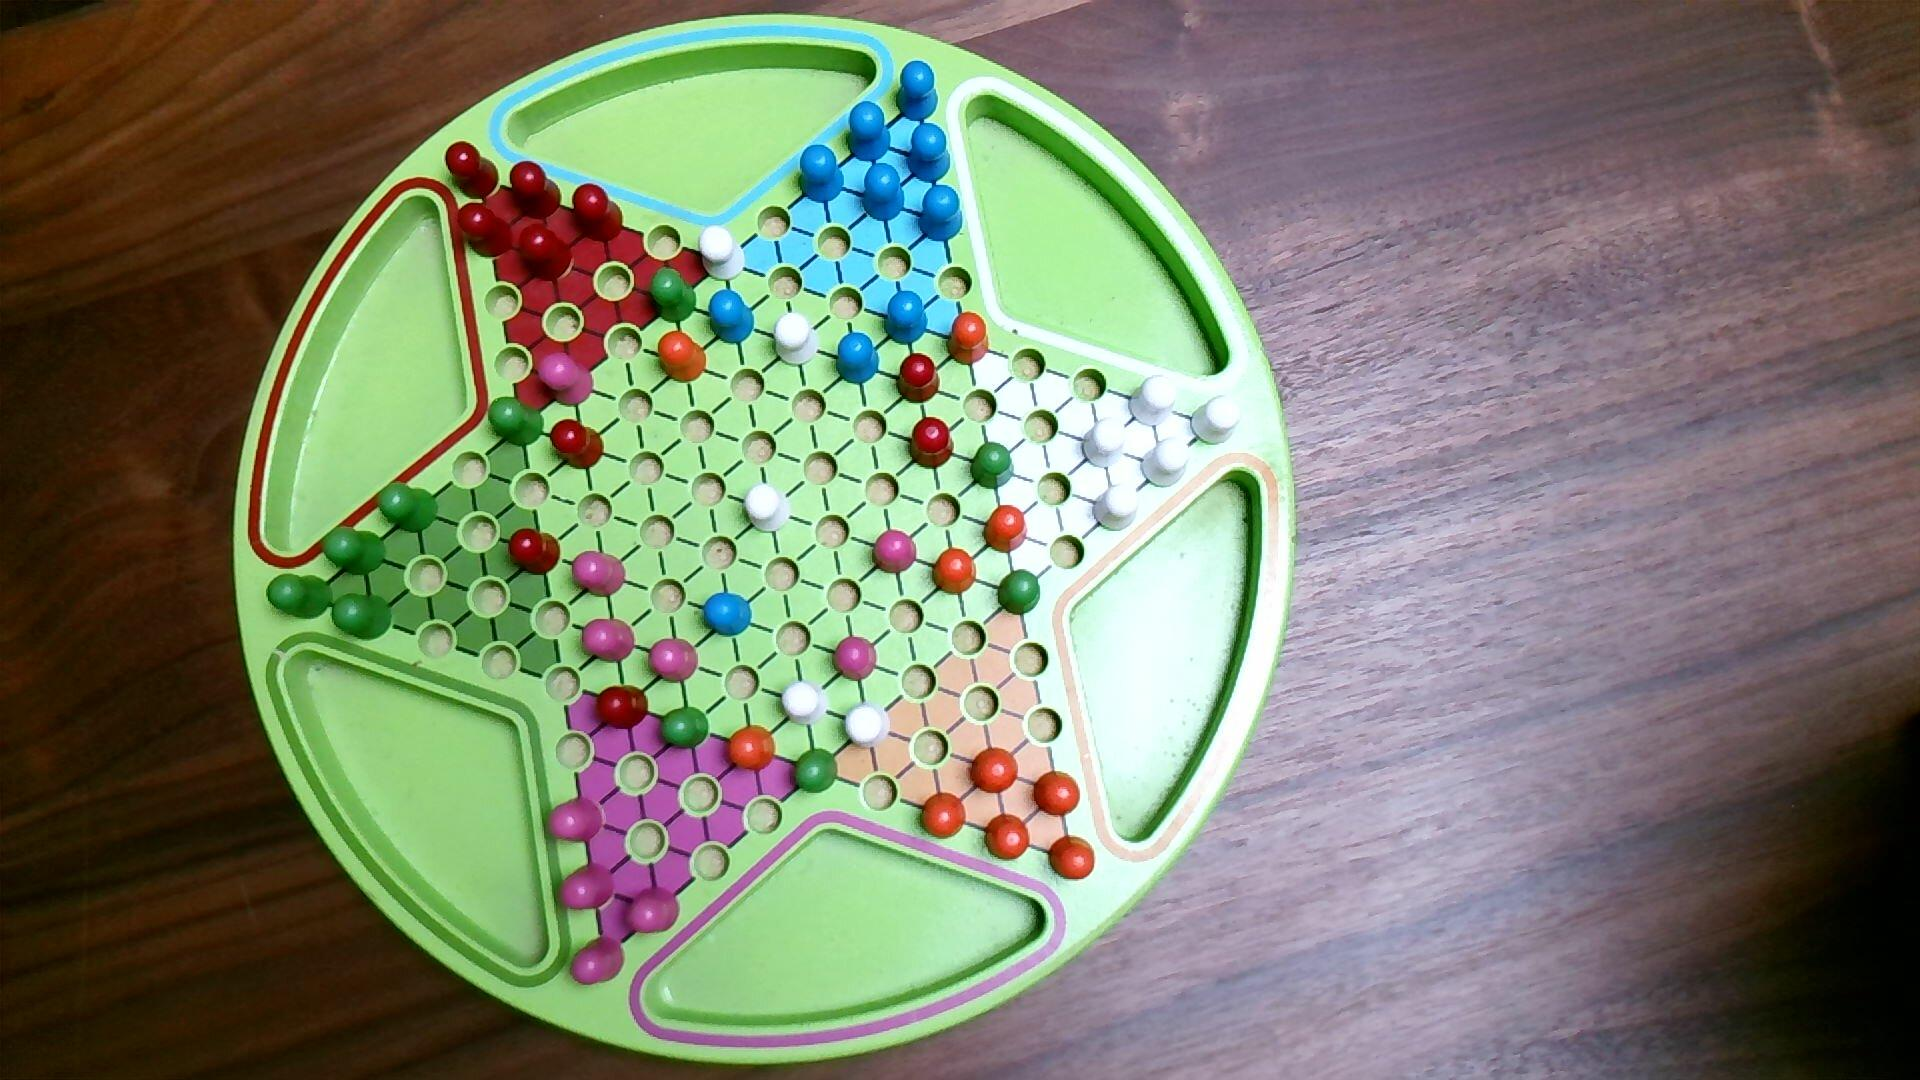B: (844, 99, 894, 164), (916, 182, 967, 245), (798, 142, 847, 207), (707, 287, 757, 348), (894, 58, 940, 123), (881, 289, 930, 349), (906, 123, 953, 185), (860, 161, 906, 224), (835, 330, 882, 388), (702, 589, 756, 640)
G: (319, 524, 389, 579), (376, 479, 440, 535), (266, 571, 335, 622), (331, 589, 396, 644), (485, 396, 546, 450), (647, 264, 699, 326), (657, 704, 711, 753), (971, 439, 1017, 493), (793, 745, 840, 796), (996, 567, 1043, 618)
O: (657, 328, 708, 385), (918, 790, 969, 843), (724, 723, 777, 773), (969, 746, 1021, 796), (982, 811, 1033, 862), (1047, 833, 1098, 884), (947, 310, 992, 367), (1033, 769, 1083, 819), (931, 545, 978, 597), (982, 502, 1030, 555)
R: (516, 220, 576, 284), (444, 138, 502, 202), (456, 200, 516, 261), (509, 160, 564, 222), (571, 181, 626, 243), (549, 417, 607, 472), (506, 526, 564, 578), (593, 683, 651, 733), (907, 415, 957, 472), (895, 352, 943, 406)
R2: (535, 349, 596, 409), (558, 858, 618, 914), (546, 793, 607, 847), (622, 884, 683, 936), (570, 934, 626, 989), (571, 549, 626, 599), (582, 617, 638, 666), (647, 636, 702, 686), (831, 634, 880, 683), (872, 527, 919, 578)
W: (698, 223, 749, 284), (1189, 393, 1245, 448), (1139, 434, 1193, 491), (1127, 372, 1180, 430), (771, 310, 822, 369), (843, 698, 894, 753), (1091, 479, 1141, 534), (778, 676, 829, 729), (745, 479, 793, 535), (1080, 413, 1127, 469)
